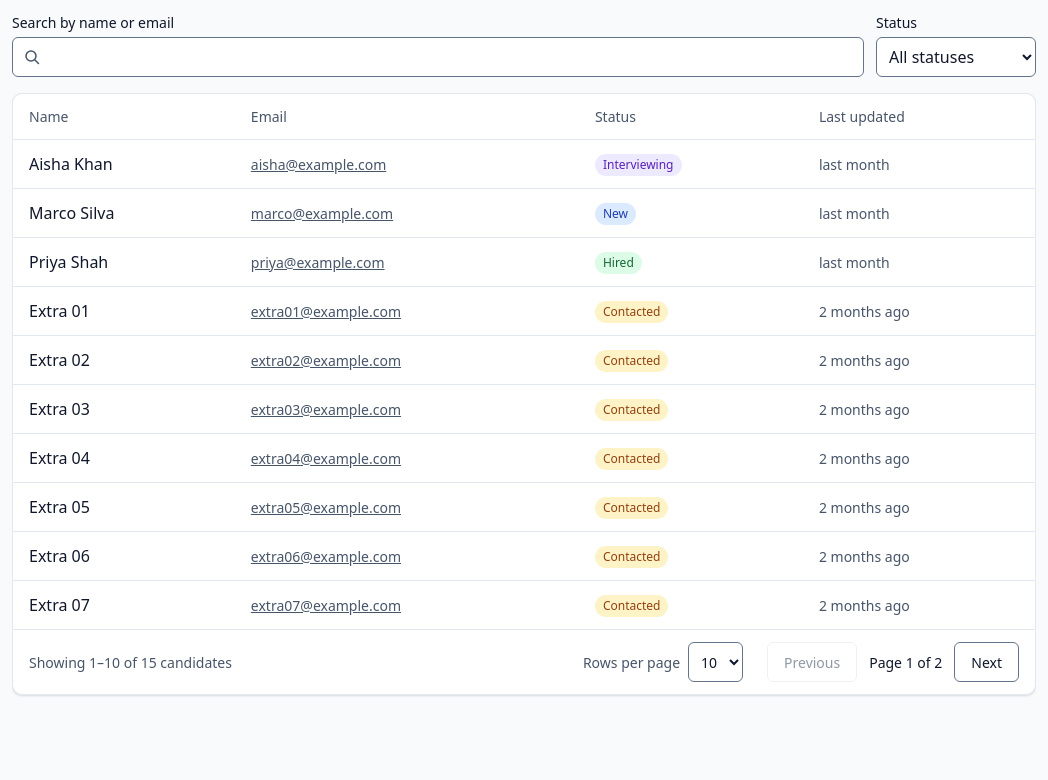
Scenario: CandidateSearch › clearing › offers Clear filters only when a filter is applied, and resets both
Expected: the text "Aisha Khan" is shown, [13,140,235,188]
Expected: the button "Clear filters" is not shown
Type "example" into the search field labelled "Search by name or email" at (438, 57), box [12,37,864,77]
Then press Enter
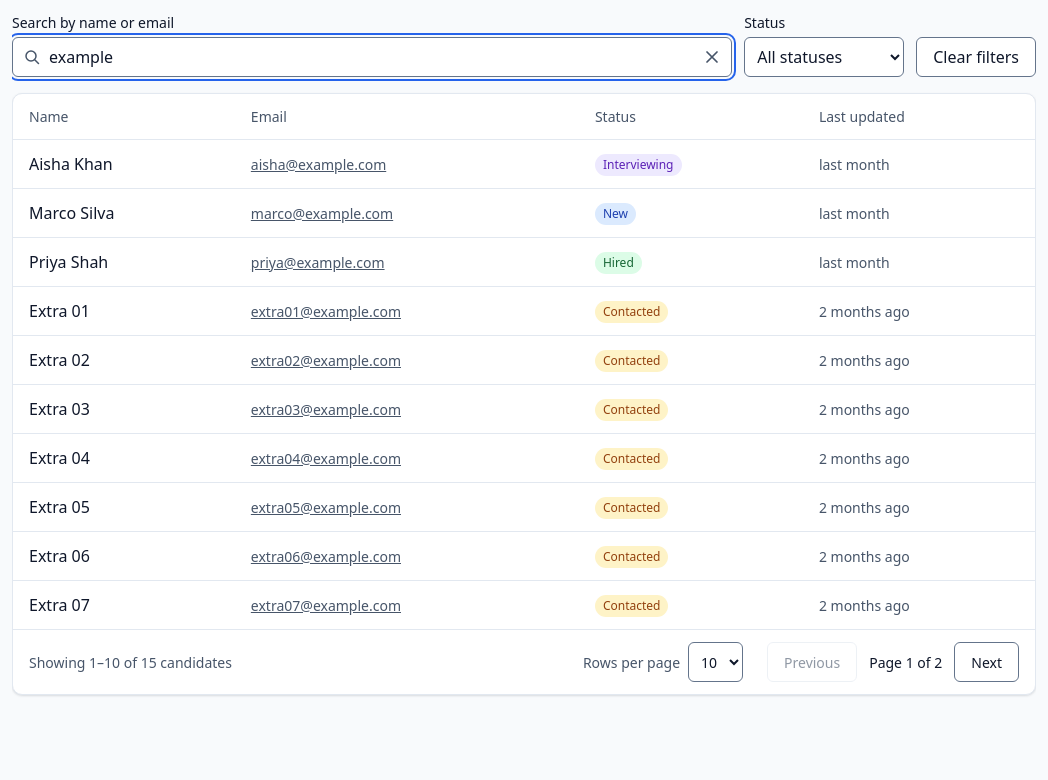
Select "Hired" in the dropdown labelled "Status" at (824, 57), box [744,37,904,77]
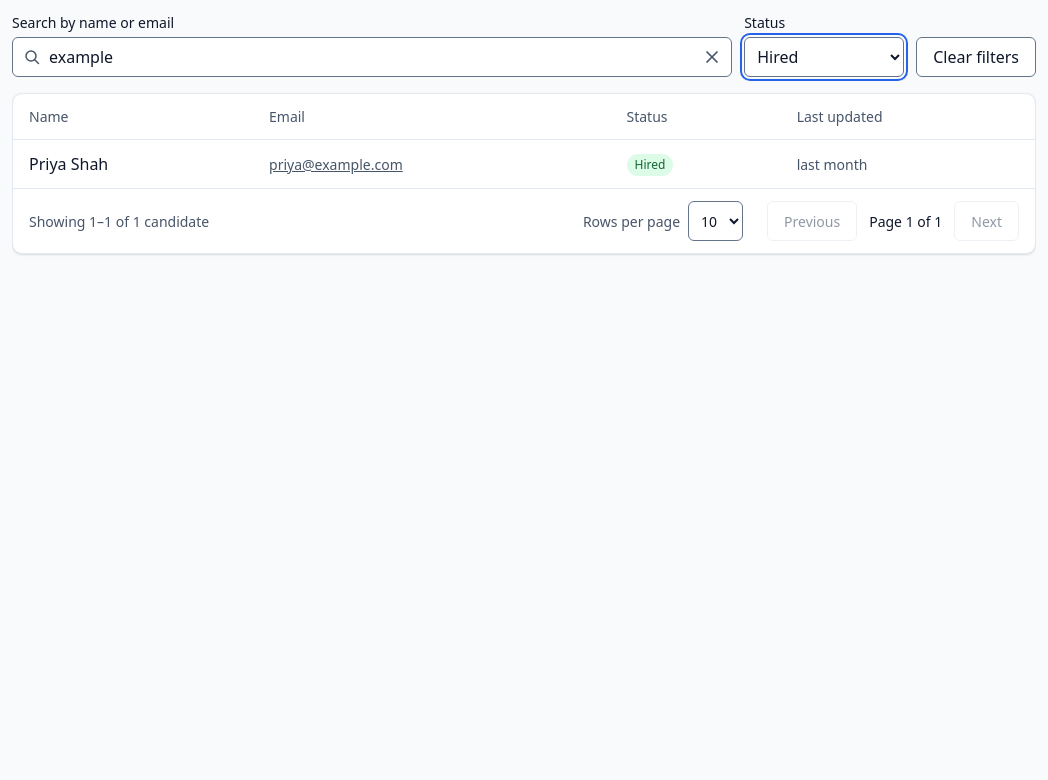
Expected: the text "Showing 1–1 of 1 candidate" is shown, [29,210,209,232]
Click the button "Clear filters" at (976, 57), box [916,37,1036,77]
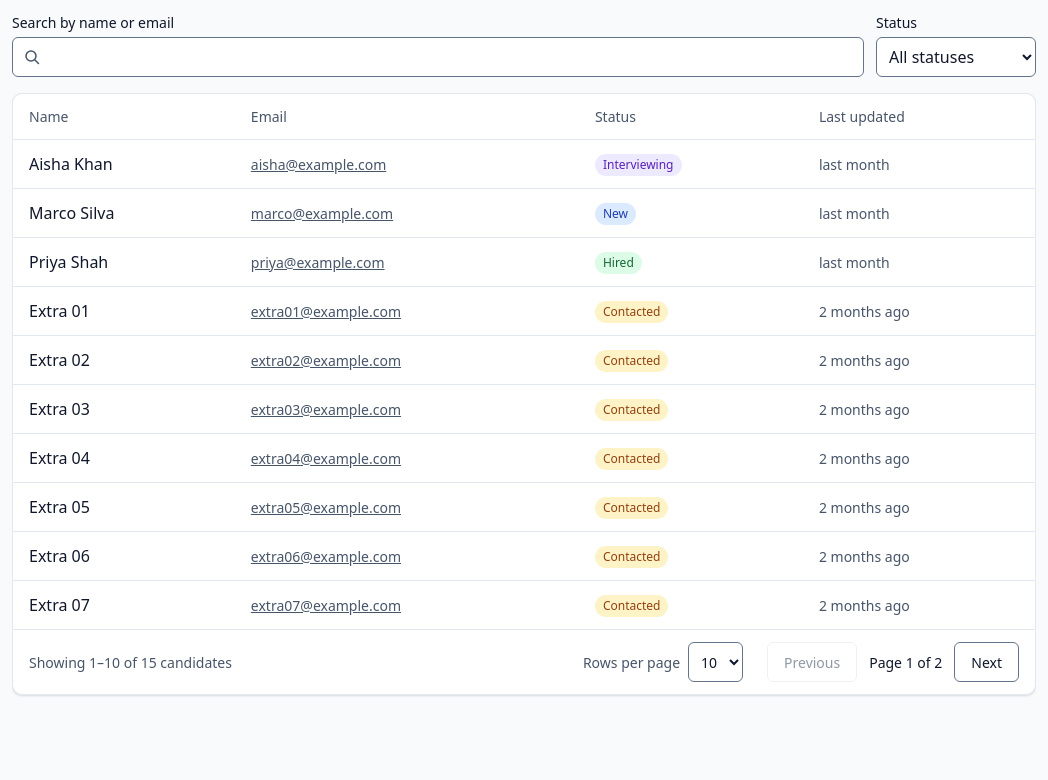
Expected: the search field labelled "Search by name or email" is empty, [12,37,864,77]
Expected: the button "Clear filters" is gone
